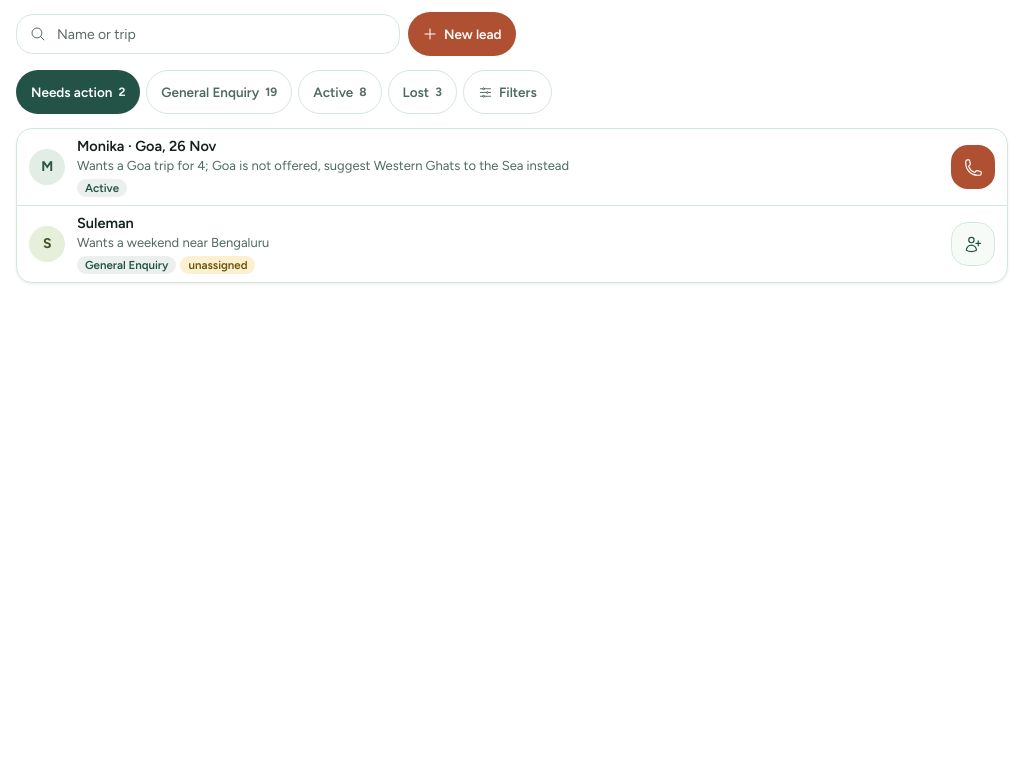
Test: Phone Leads › opens a row's sheet with the AI note, and Move stage uses the audited lead sheet
Click the button with aria-label "Monika, open details": (480, 167) [17,129,943,205]
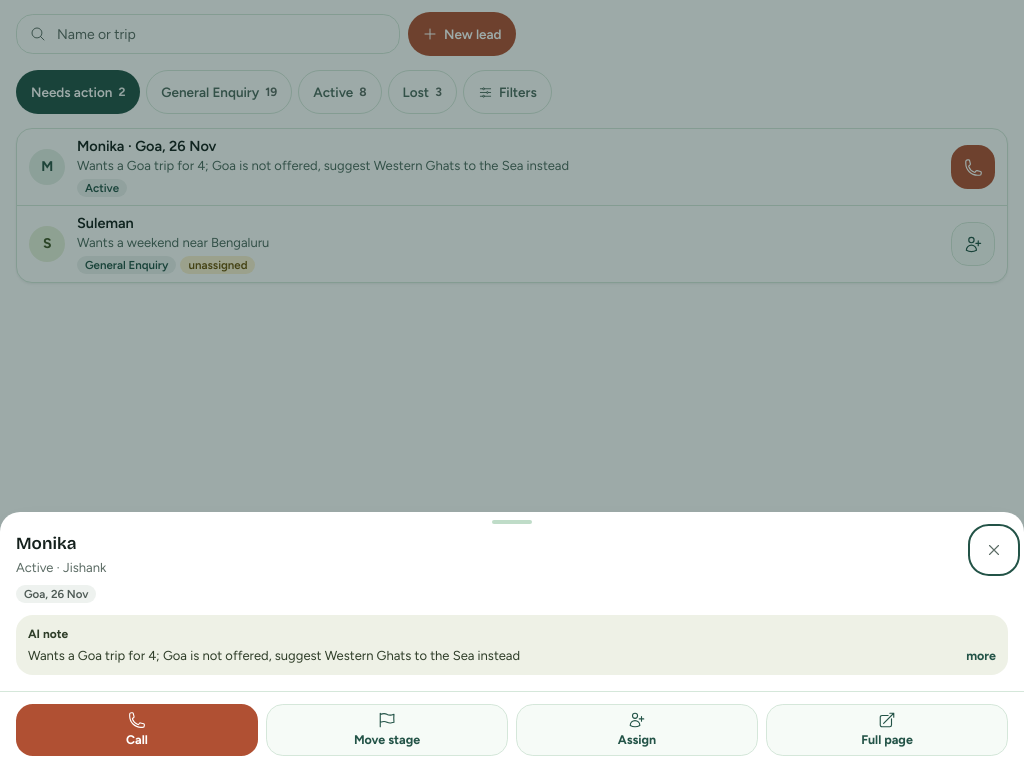
Expected: the dialog is shown, [0,512,1023,767]
Expected: the text "AI note" is shown, [28,627,68,641]
Click the button "Move stage": (387, 730) [266,704,508,756]
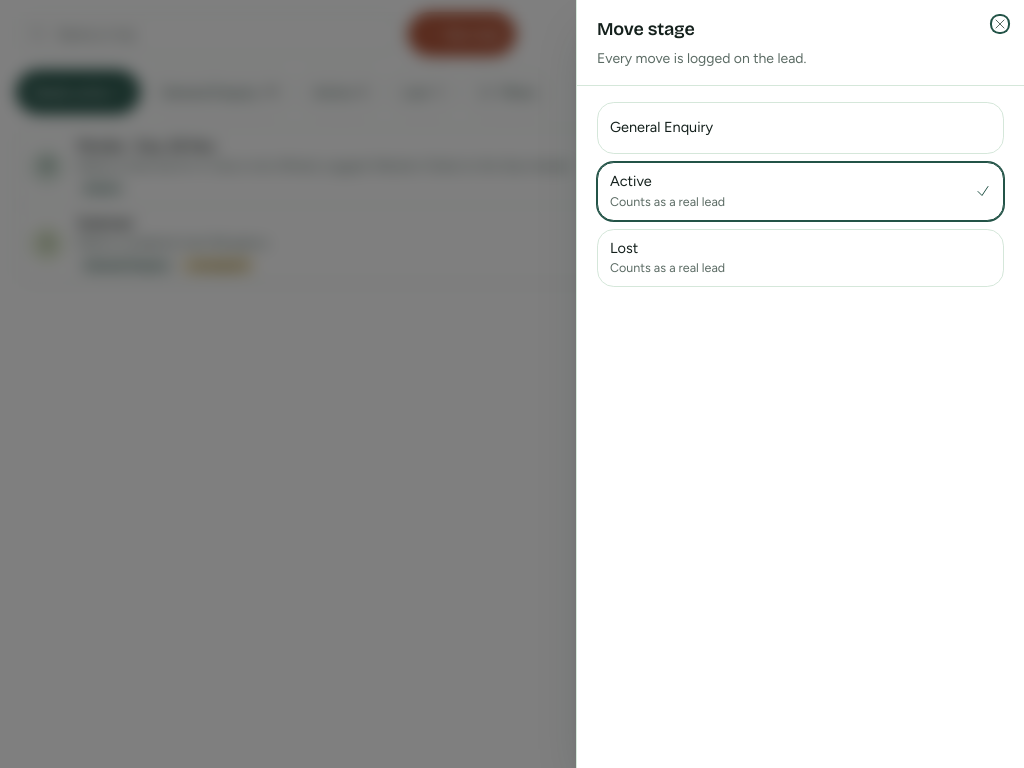
Click the radio button labelled "Lost Counts as a real lead": (668, 268) [597,228,1004,287]
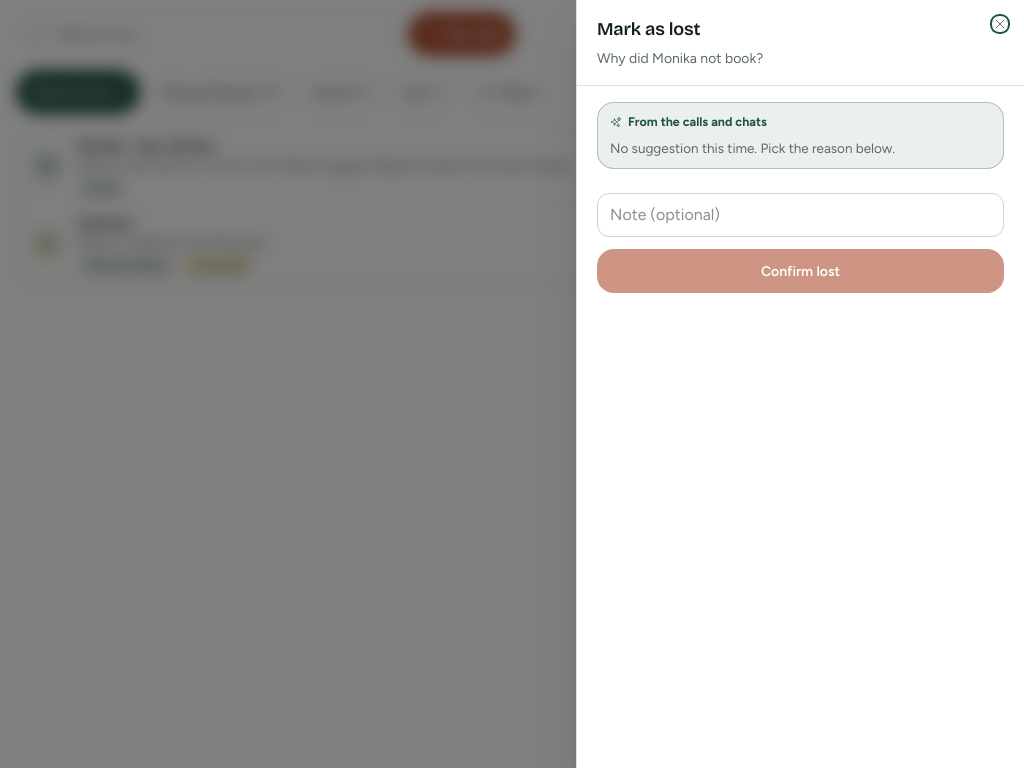
Expected: the heading "Mark as lost" is shown, [597,18,700,40]
